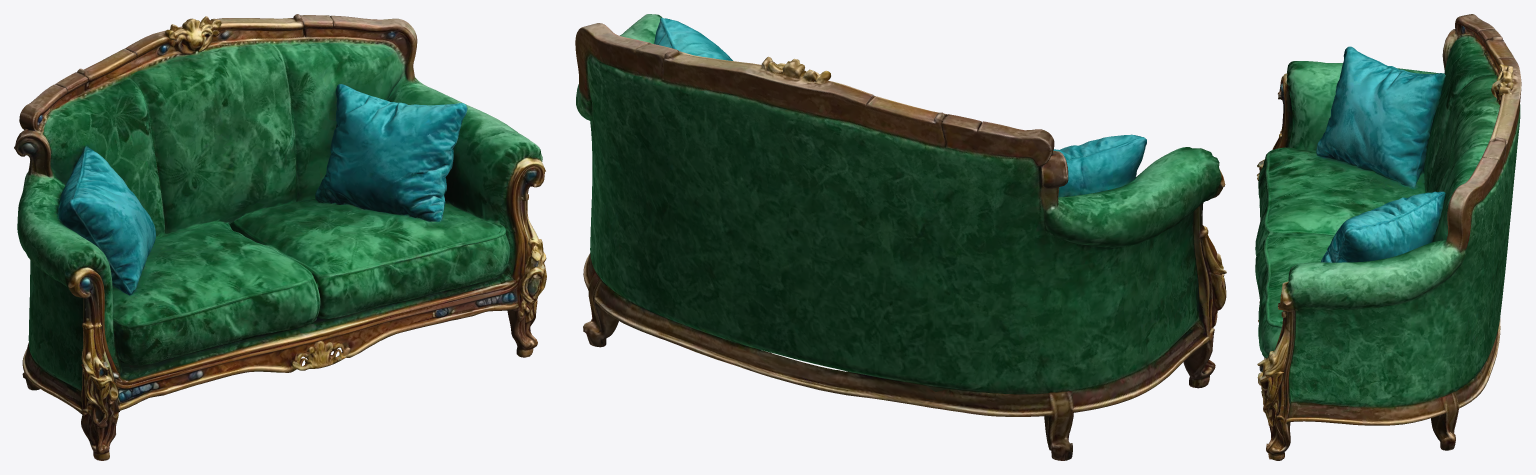
Rendered from velvetsofa3dmodel.glb.
3 views of the same model, side by side, from view 1: azimuth 30°, elevation 25°; view 2: azimuth 150°, elevation 25°; view 3: azimuth 270°, elevation 25° (orthographic). The views are drawn at different scales.
Parts seen in each view (by area): view 1: tripo_node_0afe2972-0fd2-4501-9d94-77283c839f18; view 2: tripo_node_0afe2972-0fd2-4501-9d94-77283c839f18; view 3: tripo_node_0afe2972-0fd2-4501-9d94-77283c839f18.
Part boxes in pixels (bbox=[...]): tripo_node_0afe2972-0fd2-4501-9d94-77283c839f18: bbox=[14, 14, 546, 460]; tripo_node_0afe2972-0fd2-4501-9d94-77283c839f18: bbox=[575, 14, 1226, 460]; tripo_node_0afe2972-0fd2-4501-9d94-77283c839f18: bbox=[1255, 14, 1521, 460].
Size of the model in its own units: 0.98 by 0.5894 by 0.4931.
Materials: 1 (1 with a texture image).
